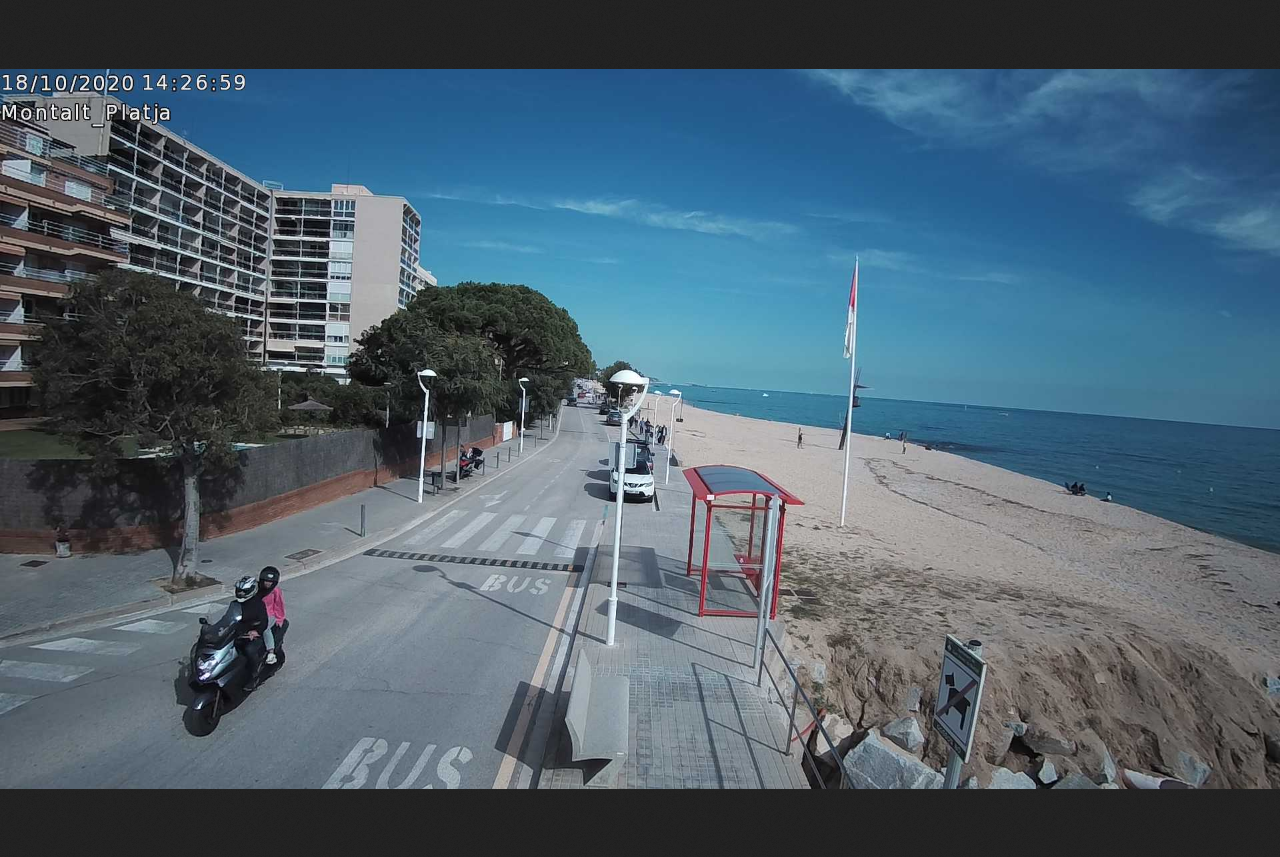no: (830, 247, 866, 367)
